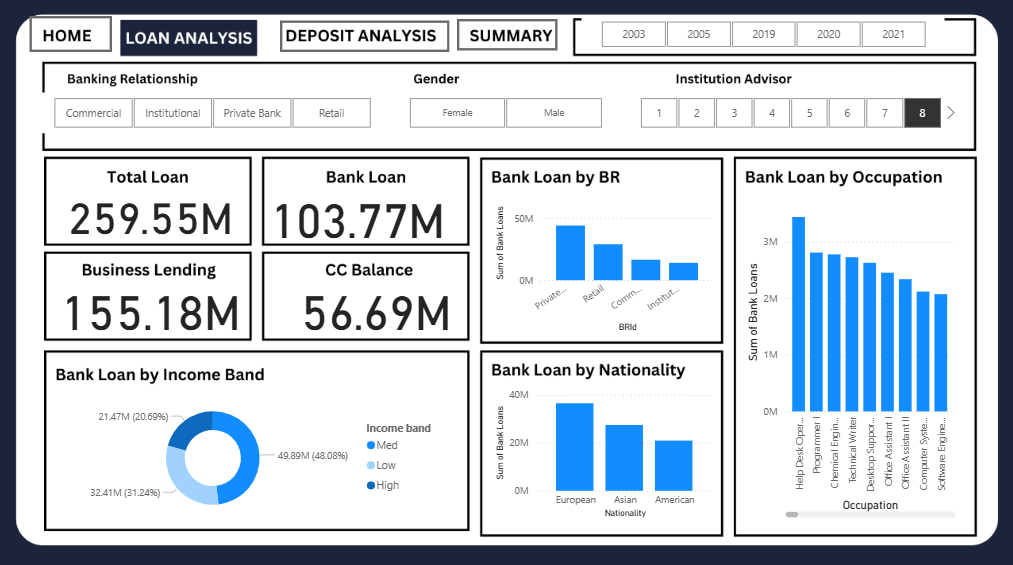

The dashboard page shown, as its layout file describes it:
{"tool":"powerbi","page":{"name":"Loan Analysis","canvas":[1280,720],"ordinal":1},"visuals":[{"type":"actionButton","box":[39.7,22.7,103.9,45.4],"z":0},{"type":"donutChart","fields":{"Category":["Query1.Income band"],"Y":["Sum(Query1.Bank Loans)"]},"box":[71.8,498.9,497,160.6],"z":1000},{"type":"columnChart","fields":{"Category":["Query1.BRId"],"Y":["Sum(Query1.Bank Loans)"]},"box":[621.7,247.6,285.4,177.6],"z":2000},{"type":"columnChart","fields":{"Category":["Query1.Nationality"],"Y":["Sum(Query1.Bank Loans)"]},"box":[621.7,485.7,285.4,173.9],"z":3000},{"type":"columnChart","fields":{"Category":["Query1.Occupation"],"Y":["Sum(Query1.Bank Loans)"]},"box":[937.3,257,274,402.5],"z":4000},{"type":"slicer","fields":{"Values":["Query1.BRId"]},"box":[45.4,119.1,447.9,51],"z":5000},{"type":"card","fields":{"Values":["Query1.Total Loan"]},"box":[71.8,234.3,240,73.7],"z":6000},{"type":"card","fields":{"Values":["Sum(Query1.Business Lending)"]},"box":[71.8,351.5,240,73.7],"z":7000},{"type":"card","fields":{"Values":["Sum(Query1.Checking Accounts)"]},"box":[355.3,351.5,240,73.7],"z":8000},{"type":"card","fields":{"Values":["Sum(Query1.Bank Loans)"]},"box":[332.6,236.2,240,73.7],"z":9000},{"type":"slicer","fields":{"Values":["Query1.GenderId"]},"box":[493.2,119.1,291,51],"z":10000},{"type":"slicer","fields":{"Values":["Query1.IAId"]},"box":[784.3,119.1,427.1,51],"z":11000},{"type":"slicer","fields":{"Values":["Query1.1 year of joining"]},"box":[735.1,22.7,457.3,45.4],"z":12000},{"type":"actionButton","box":[355.3,28.3,213.5,39.7],"z":13000},{"type":"actionButton","box":[578.3,26.5,126.6,39.7],"z":14000}]}

Visuals, with their boxes in screenshot pixels (x1, y1, x2, y2), scaled from the page's 1280x720 canvas onto the 1013x565 screenshot:
actionButton: box(31, 18, 114, 53)
donutChart - Query1.Income band x Sum(Query1.Bank Loans): box(57, 391, 450, 518)
columnChart - Query1.BRId x Sum(Query1.Bank Loans): box(492, 194, 718, 334)
columnChart - Query1.Nationality x Sum(Query1.Bank Loans): box(492, 381, 718, 518)
columnChart - Query1.Occupation x Sum(Query1.Bank Loans): box(742, 202, 959, 518)
slicer - Query1.BRId: box(36, 93, 390, 133)
card - Query1.Total Loan: box(57, 184, 247, 242)
card - Sum(Query1.Business Lending): box(57, 276, 247, 334)
card - Sum(Query1.Checking Accounts): box(281, 276, 471, 334)
card - Sum(Query1.Bank Loans): box(263, 185, 453, 243)
slicer - Query1.GenderId: box(390, 93, 621, 133)
slicer - Query1.IAId: box(621, 93, 959, 133)
slicer - Query1.1 year of joining: box(582, 18, 944, 53)
actionButton: box(281, 22, 450, 53)
actionButton: box(458, 21, 558, 52)
